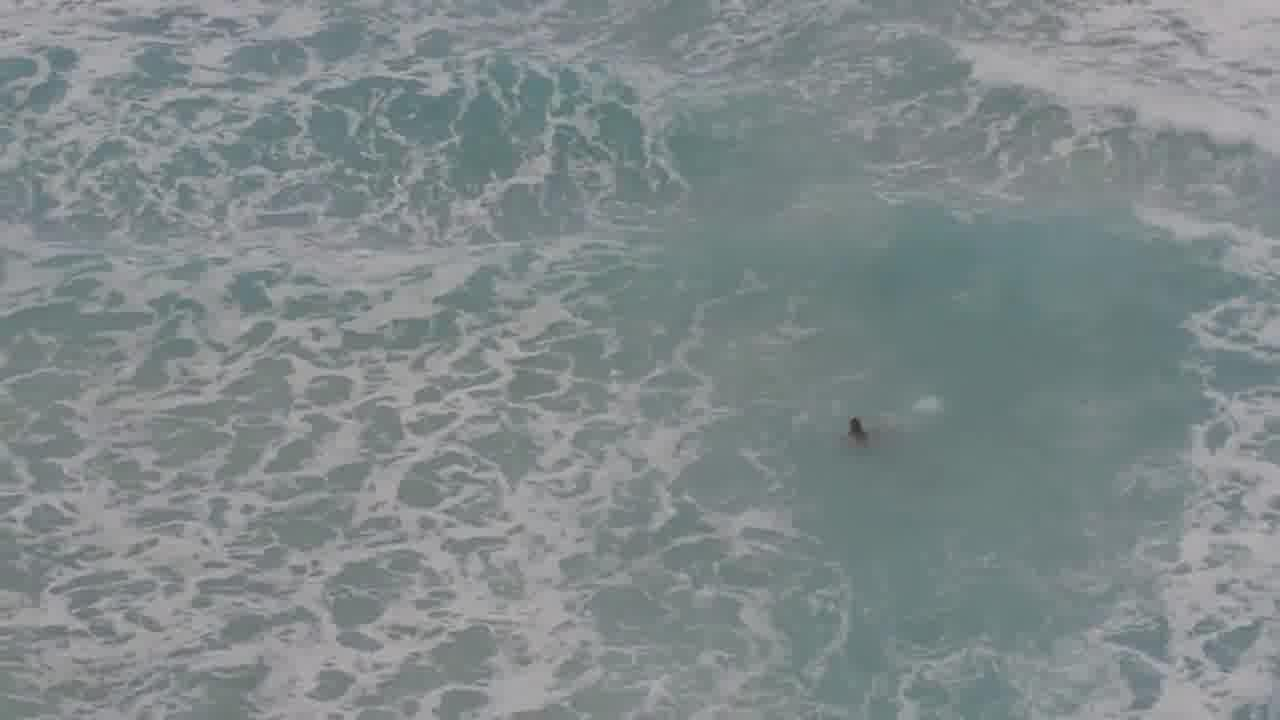human: (835, 410, 881, 446)
